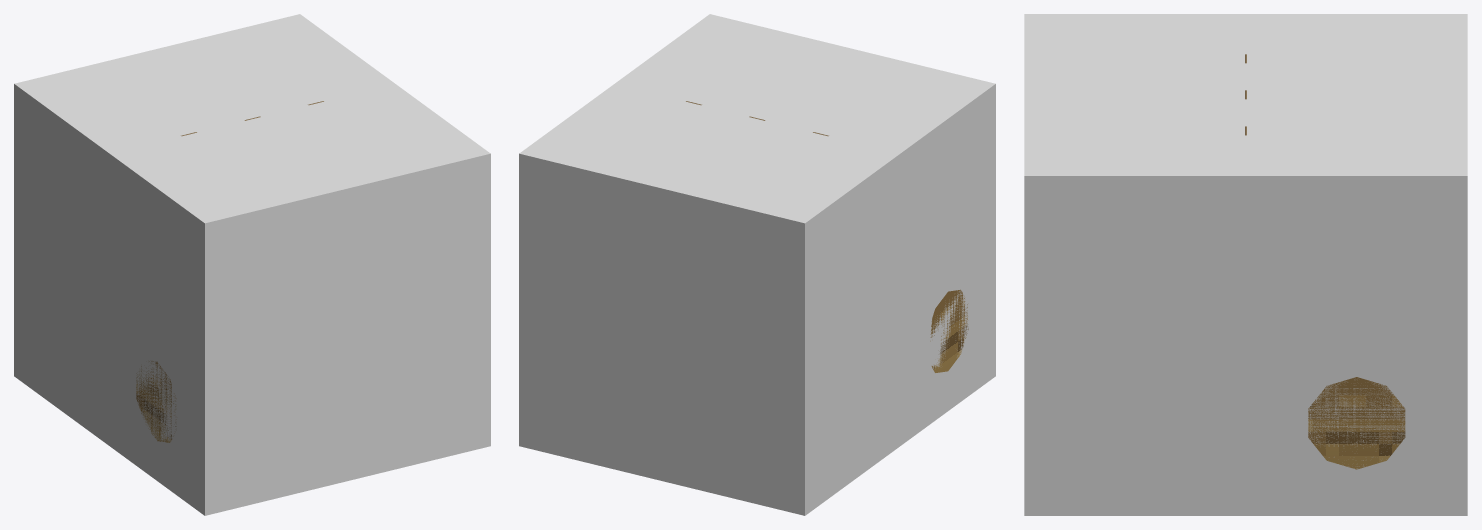
Rendered from JP_Prop_RiceBales_A.glb.
3 views of the same model, side by side, from view 1: azimuth 30°, elevation 25°; view 2: azimuth 150°, elevation 25°; view 3: azimuth 270°, elevation 25° (orthographic). The views are drawn at different scales.
Parts seen in each view (by area): view 1: COL_JP_Prop_RiceBales_A, JP_Prop_RiceBales_A; view 2: COL_JP_Prop_RiceBales_A, JP_Prop_RiceBales_A; view 3: COL_JP_Prop_RiceBales_A, JP_Prop_RiceBales_A.
Part boxes in pixels (box(x1,y1,x2,y2)): COL_JP_Prop_RiceBales_A: box(14, 14, 490, 515); JP_Prop_RiceBales_A: box(136, 101, 323, 442); COL_JP_Prop_RiceBales_A: box(519, 14, 995, 515); JP_Prop_RiceBales_A: box(686, 101, 968, 372); COL_JP_Prop_RiceBales_A: box(1024, 14, 1467, 515); JP_Prop_RiceBales_A: box(1245, 54, 1405, 469).
Size of the model in its own units: 0.9 by 0.8928 by 1.04.
2 materials, 2 textured.
